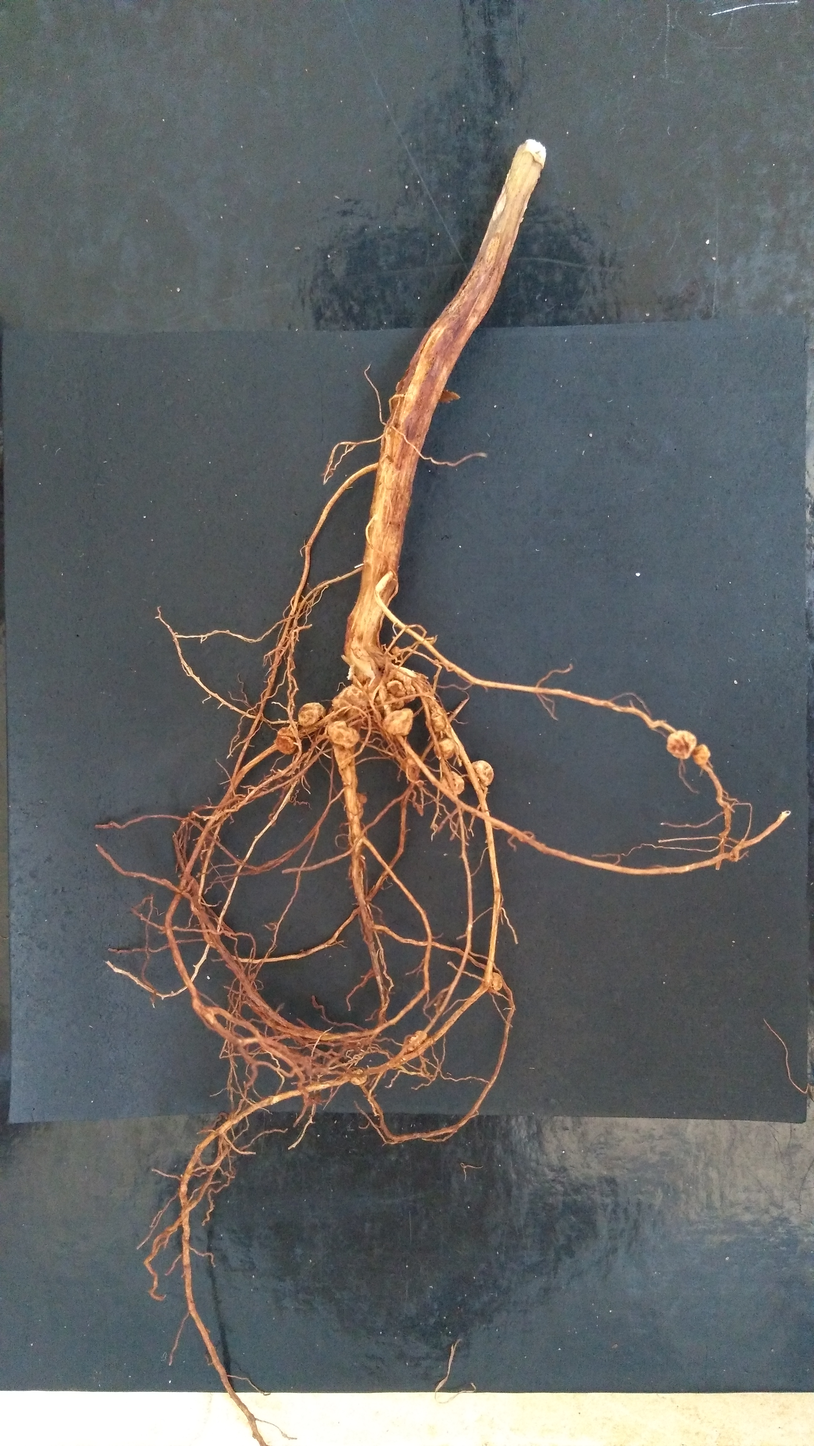nodule: (330, 685, 369, 718), (663, 725, 698, 761), (381, 707, 417, 740), (327, 720, 361, 750), (466, 759, 496, 789), (295, 701, 327, 727), (432, 737, 462, 763), (273, 726, 299, 756), (438, 769, 466, 796), (403, 1029, 429, 1055), (689, 741, 712, 767), (405, 758, 424, 787), (429, 711, 449, 735), (385, 679, 407, 697), (350, 1067, 369, 1087), (490, 970, 505, 993), (390, 646, 401, 656)
